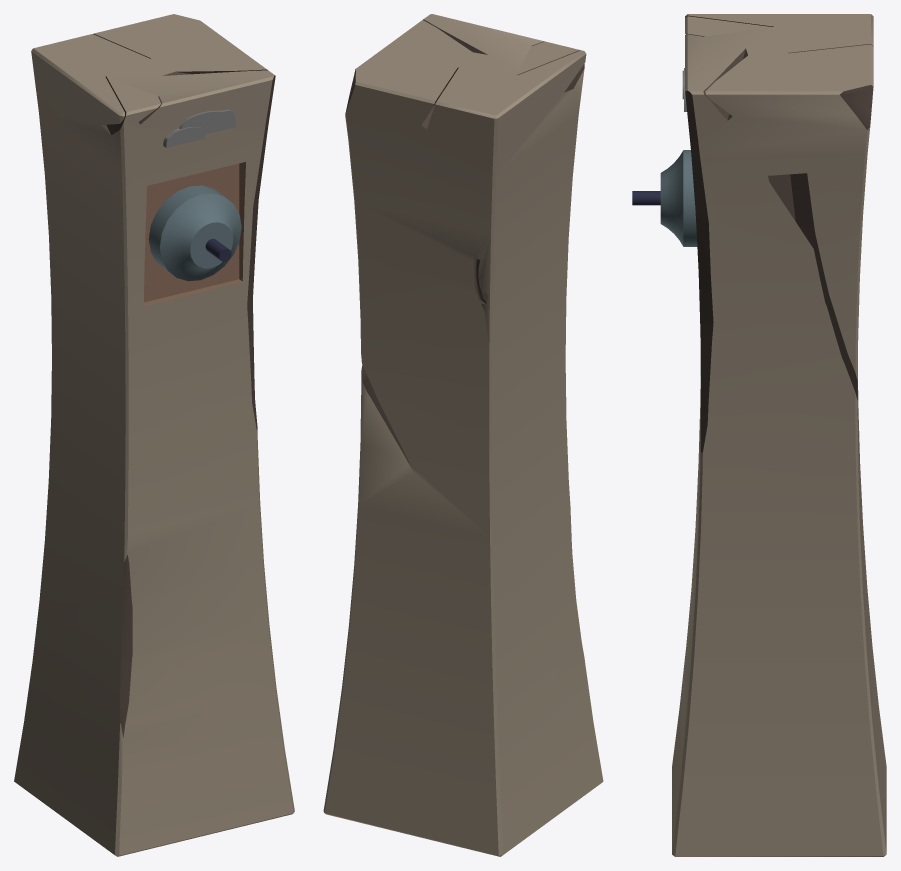
Rendered from crank non interactable clouds.fbx.
3 views of the same model, side by side, from view 1: azimuth 30°, elevation 25°; view 2: azimuth 150°, elevation 25°; view 3: azimuth 270°, elevation 25° (orthographic). The views are drawn at different scales.
Visible parts, largest first — view 1: crank_base, cloud_2, cloud_1; view 2: crank_base; view 3: crank_base.
Boxes of the visible parts, x1,y1,x2,y2 form: crank_base: (14,14,294,856); cloud_2: (179,109,236,134); cloud_1: (163,127,204,147); crank_base: (323,14,603,856); crank_base: (632,14,886,856).
Bounding box in the file's own units: 43.21 × 169 × 51.19.
